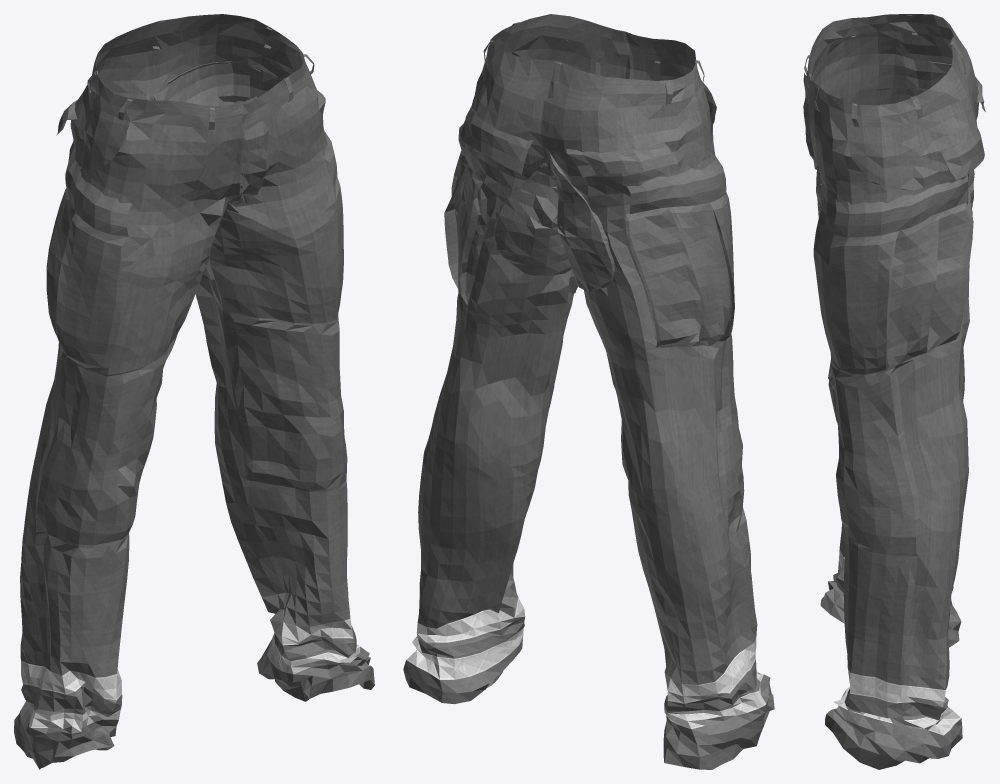
The model's file is mhw_elvs_emt_uniform_pants_female.glb.
3 views of the same model, side by side, from view 1: azimuth 30°, elevation 25°; view 2: azimuth 150°, elevation 25°; view 3: azimuth 270°, elevation 25° (orthographic). The views are drawn at different scales.
Visible parts, largest first — view 1: mhw_elvs_emt_uniform_pants_female; view 2: mhw_elvs_emt_uniform_pants_female; view 3: mhw_elvs_emt_uniform_pants_female.
Part boxes in pixels (x1=…): mhw_elvs_emt_uniform_pants_female: x1=14, y1=14, x2=374, y2=769; mhw_elvs_emt_uniform_pants_female: x1=403, y1=14, x2=774, y2=769; mhw_elvs_emt_uniform_pants_female: x1=803, y1=14, x2=985, y2=769.
Size of the model in its own units: 0.5718 by 1.1 by 0.276.
1 material, 1 textured.
